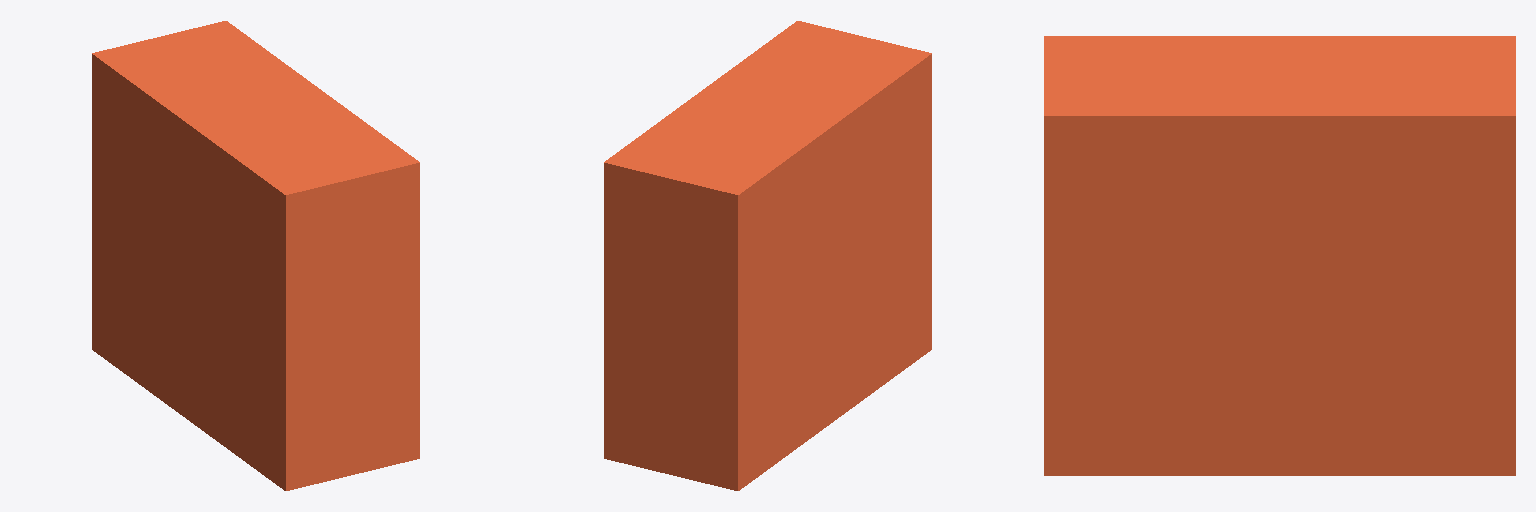
URDF robot description (myfirst):
<?xml version="1.0"?>
 <robot name="myfirst">
   <material name="red">
     <color rgba="1 0.498 0.3137 1"/>
   </material>
   <link name="right_leg">
     <visual>
       <geometry>
         <box size="0.034 0.0848 0.0714"/>
       </geometry>
       <material name="red"/>
     </visual>
     <collision>
       <geometry>
         <box size="0.034 0.0848 0.0714"/>
       </geometry>
     </collision>
     <inertial>
       <mass value="1"/>
       <inertia ixx="1.0" ixy="0.0" ixz="0.0" iyy="1.0" iyz="0.0" izz="1.0"/>
     </inertial>
   </link>
 </robot>

--- Render facts (derived) ---
The picture shows the robot from 3 angles, left to right: view 1: azimuth 30°, elevation 25°; view 2: azimuth 150°, elevation 25°; view 3: azimuth 270°, elevation 25°; orthographic projection.
Model myfirst with 1 links and 0 joints (none), rooted at right_leg, posed all joints at 0.
Links seen in each view (by area): view 1: right_leg; view 2: right_leg; view 3: right_leg.
Link boxes in pixels (left/top/right/bottom): right_leg: left=92, top=21, right=419, bottom=490; right_leg: left=604, top=21, right=931, bottom=490; right_leg: left=1044, top=36, right=1515, bottom=475.
Size in the robot's own frame: 0.034 by 0.0848 by 0.0714 metres.
Geometry: primitives only (box / cylinder / sphere), no mesh files.
